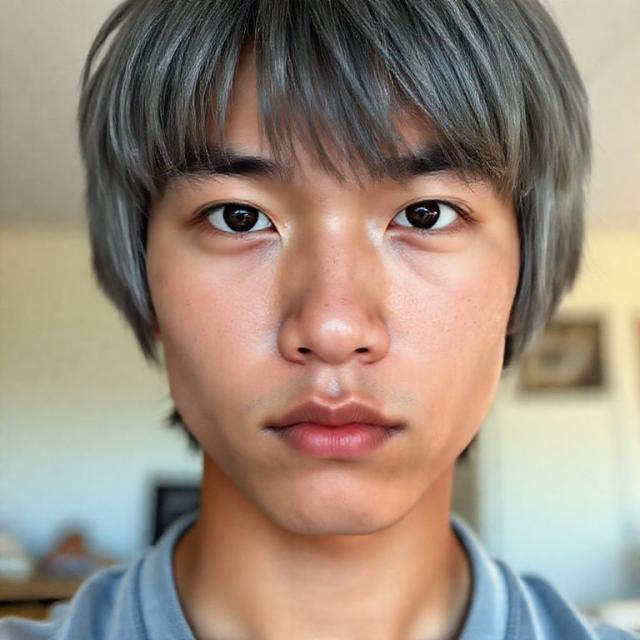0_rostro_limpio: (143, 38, 522, 536)
